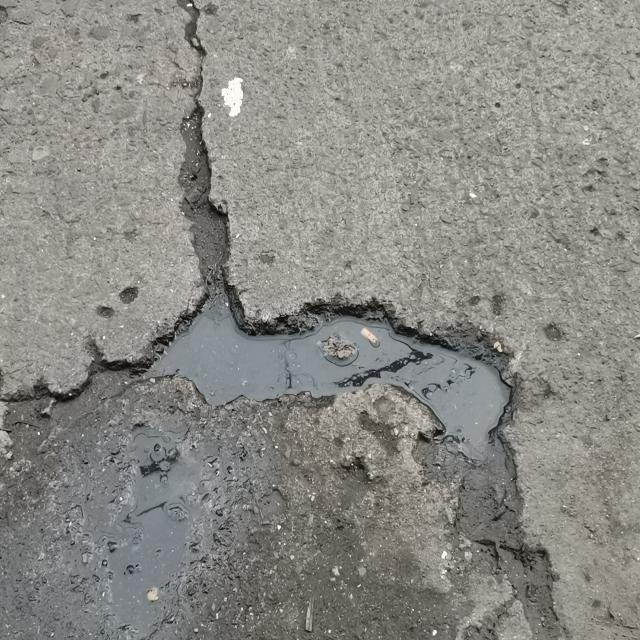pothole: (125, 217, 548, 500)
